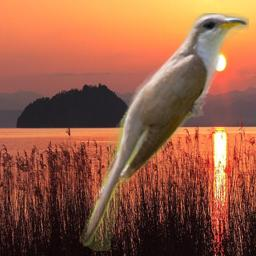Cuckoo: (77, 13, 249, 251)
